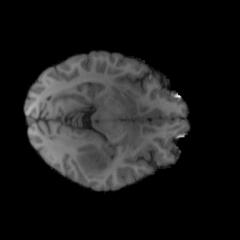glioma: (76, 148, 112, 174)
